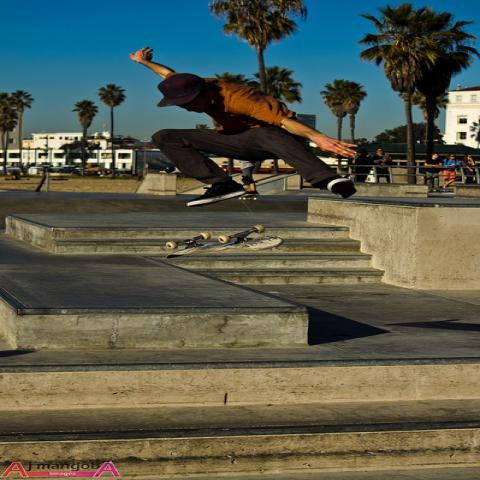car: (5, 166, 24, 176), (116, 168, 132, 178)
